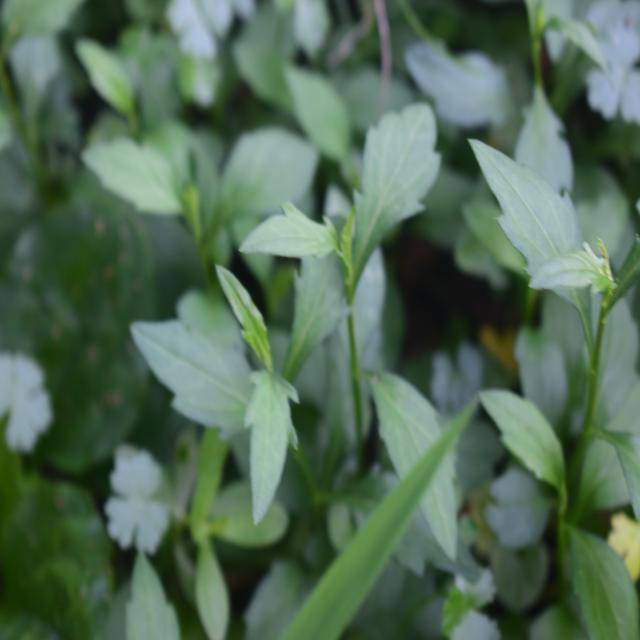Indian aster: (166, 69, 440, 460)
